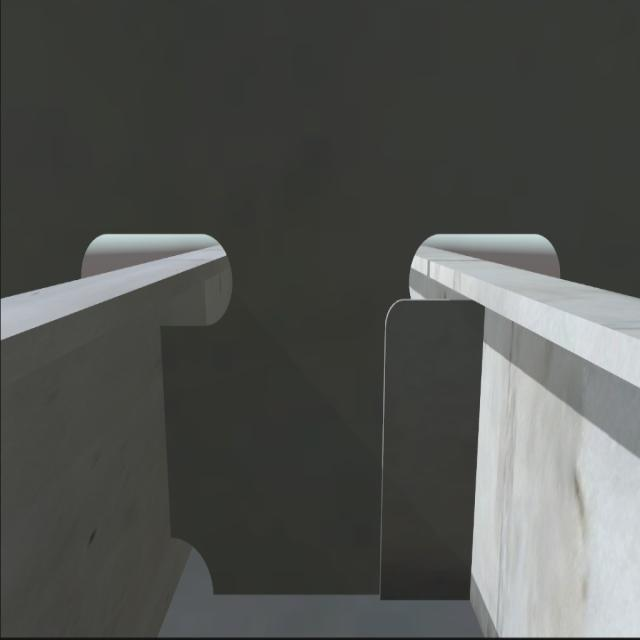fillet_hole: (174, 539, 216, 593)
fillet_yong_jeop_jang: (207, 588, 472, 606)
longi_yong_jeop_jang: (156, 325, 180, 545), (468, 296, 484, 607)
plate_CP05: (378, 292, 471, 594)
